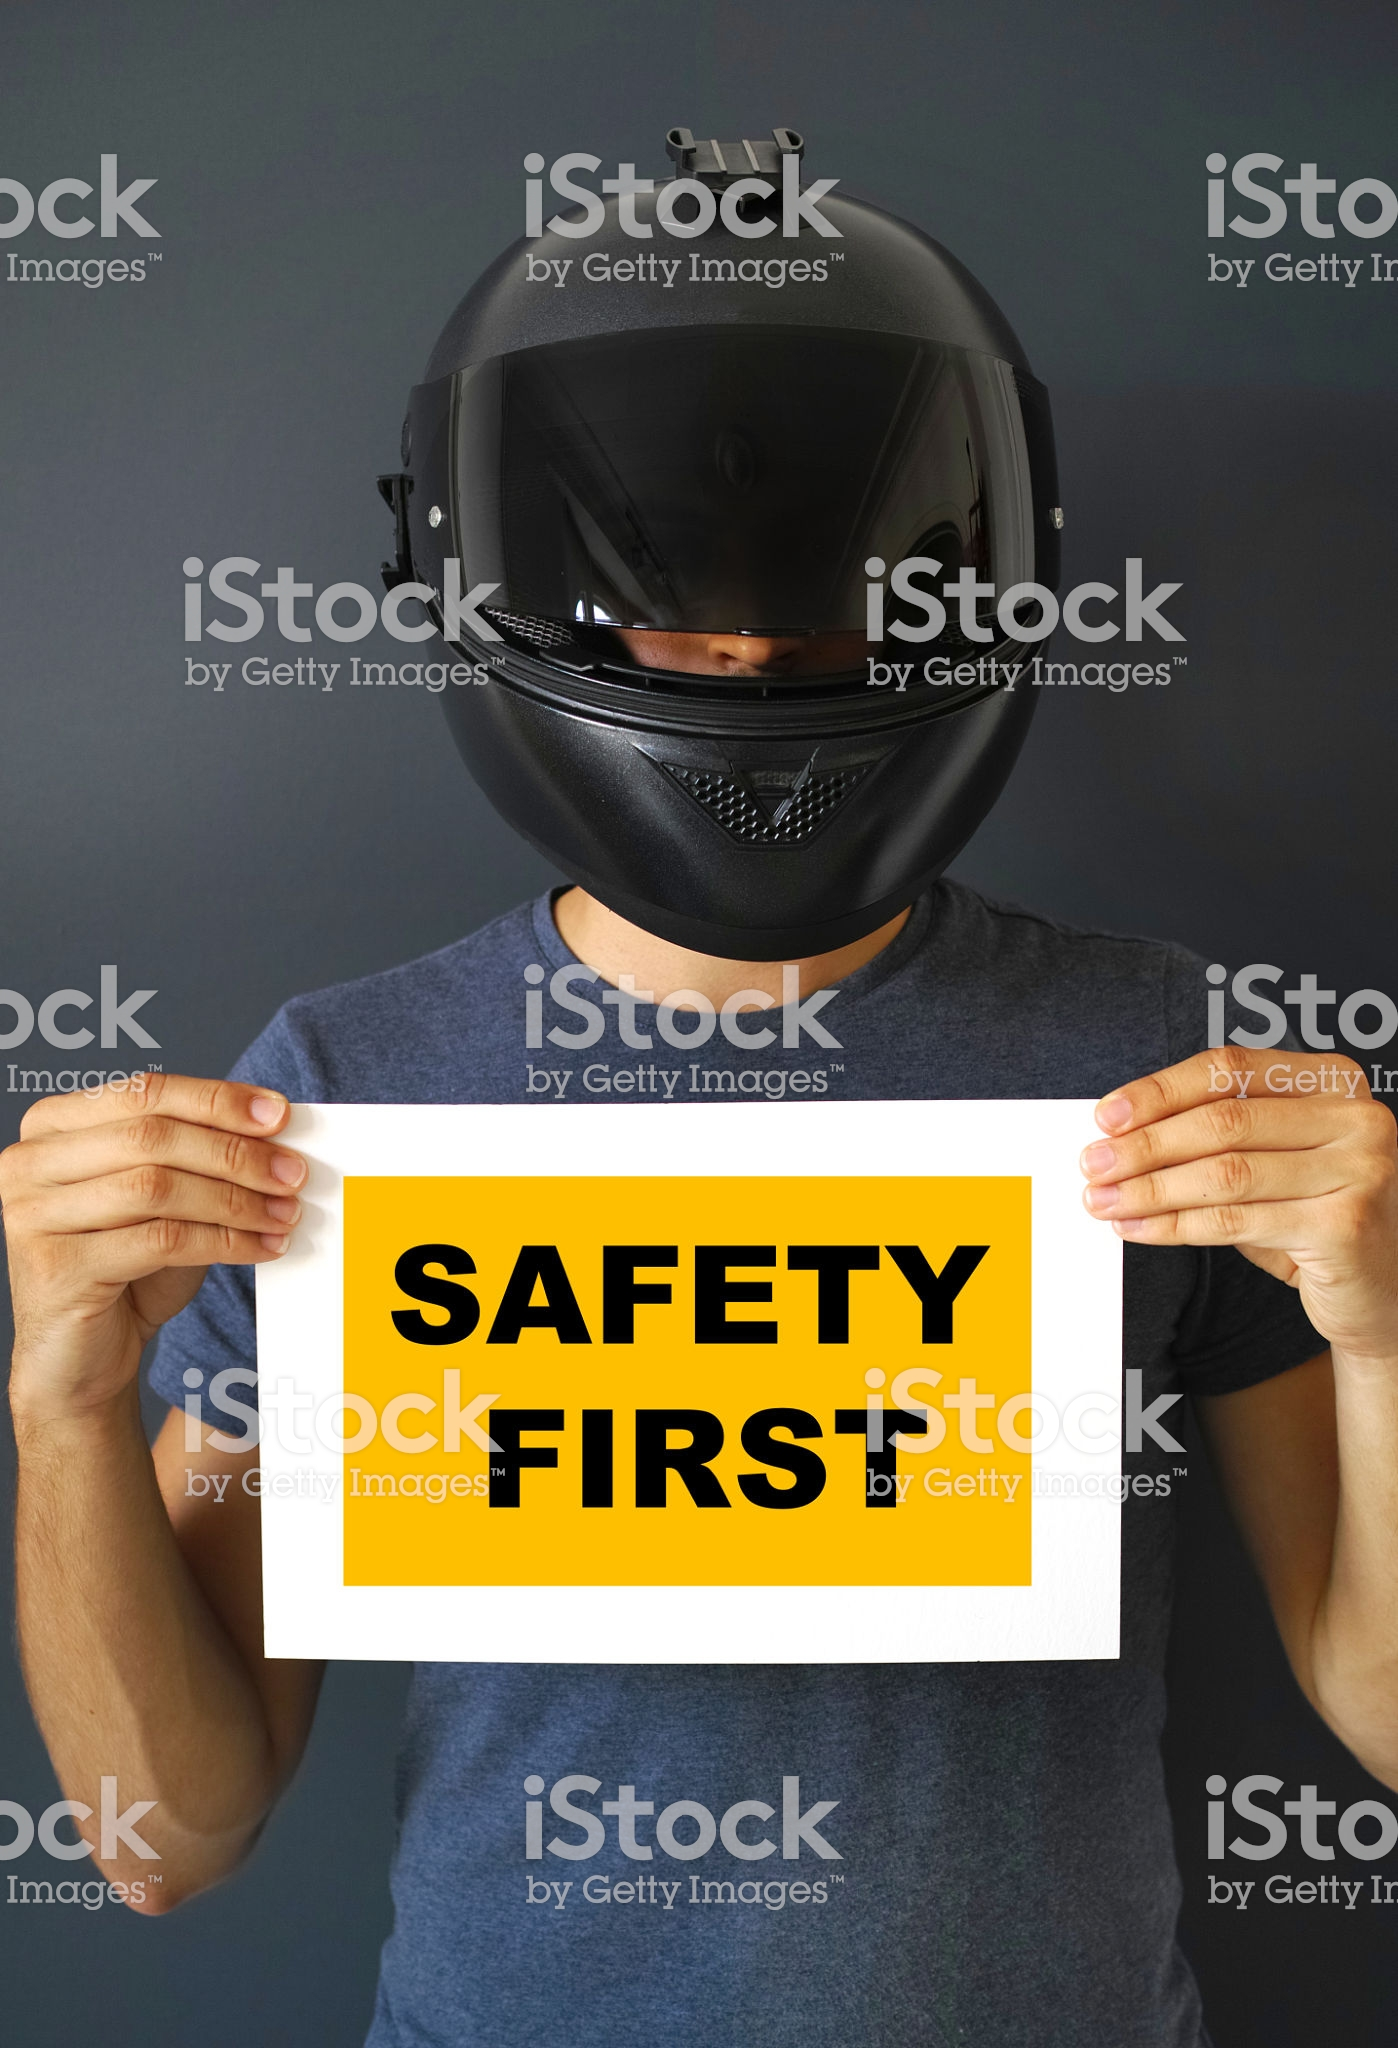helmet: (399, 145, 1144, 931)
